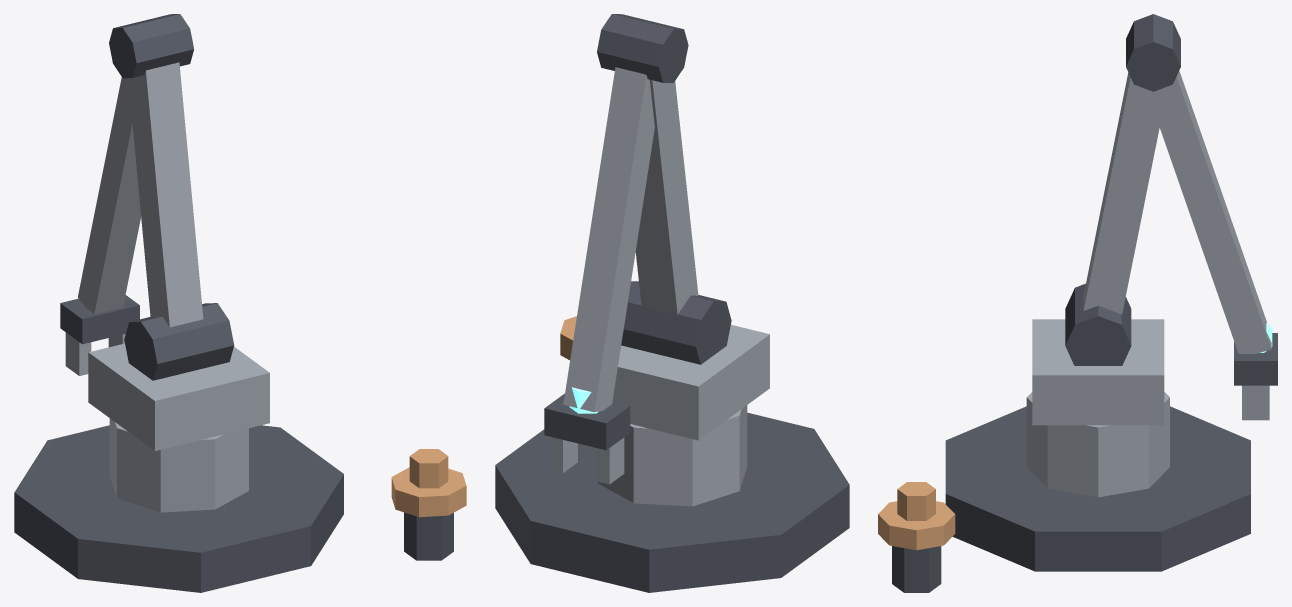
Rendered from braco_rapido_sem_textura.glb.
3 renders of one model, left to right at view 1: azimuth 30°, elevation 25°; view 2: azimuth 150°, elevation 25°; view 3: azimuth 270°, elevation 25°, orthographic. The views are drawn at different scales.
Visible parts, largest first — view 1: braco_rapido_base, braco_rapido_giro, braco_rapido_braco1, braco_rapido_braco2, braco_rapido_garra; view 2: braco_rapido_base, braco_rapido_giro, braco_rapido_braco2, braco_rapido_braco1, braco_rapido_garra; view 3: braco_rapido_base, braco_rapido_giro, braco_rapido_braco1, braco_rapido_braco2, braco_rapido_garra.
Boxes of the visible parts, x1,y1,x2,y2 form: braco_rapido_base: (14, 418, 466, 592); braco_rapido_giro: (88, 303, 269, 450); braco_rapido_braco1: (109, 14, 203, 327); braco_rapido_braco2: (78, 77, 140, 313); braco_rapido_garra: (60, 295, 139, 375); braco_rapido_base: (495, 316, 849, 592); braco_rapido_giro: (612, 281, 769, 440); braco_rapido_braco2: (563, 67, 654, 412); braco_rapido_braco1: (597, 14, 698, 315); braco_rapido_garra: (544, 387, 630, 484); braco_rapido_base: (878, 392, 1250, 592); braco_rapido_giro: (1032, 283, 1164, 425); braco_rapido_braco1: (1083, 14, 1180, 314); braco_rapido_braco2: (1159, 71, 1271, 353); braco_rapido_garra: (1234, 323, 1277, 420).
Bounding box in the file's own units: 0.6772 × 0.96 × 0.726.
